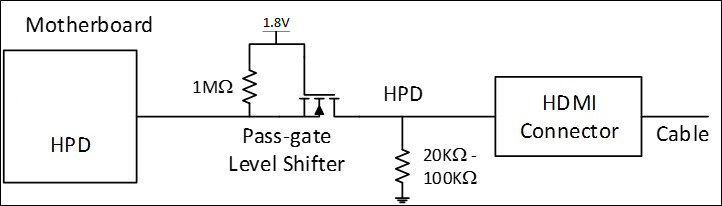ground: (391, 193, 416, 205)
mosfet: (294, 84, 343, 123)
power: (259, 28, 292, 49)
rectangle: (2, 47, 139, 186), (493, 74, 643, 162)
resistor: (241, 65, 259, 105), (395, 145, 411, 185)
